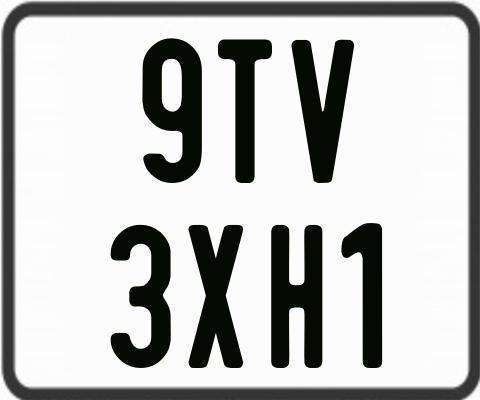1: (340, 221, 387, 370)
3: (108, 222, 172, 371)
9: (142, 36, 208, 184)
H: (271, 222, 322, 369)
T: (215, 39, 275, 186)
V: (289, 38, 352, 184)
X: (186, 222, 244, 367)
